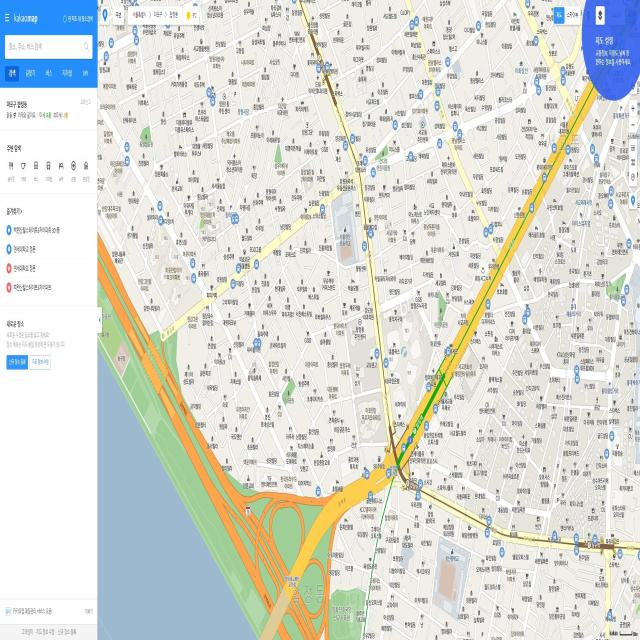button: (4, 10, 38, 27), (30, 354, 51, 371), (6, 354, 28, 370), (113, 7, 125, 25)
input: (4, 34, 93, 60)
